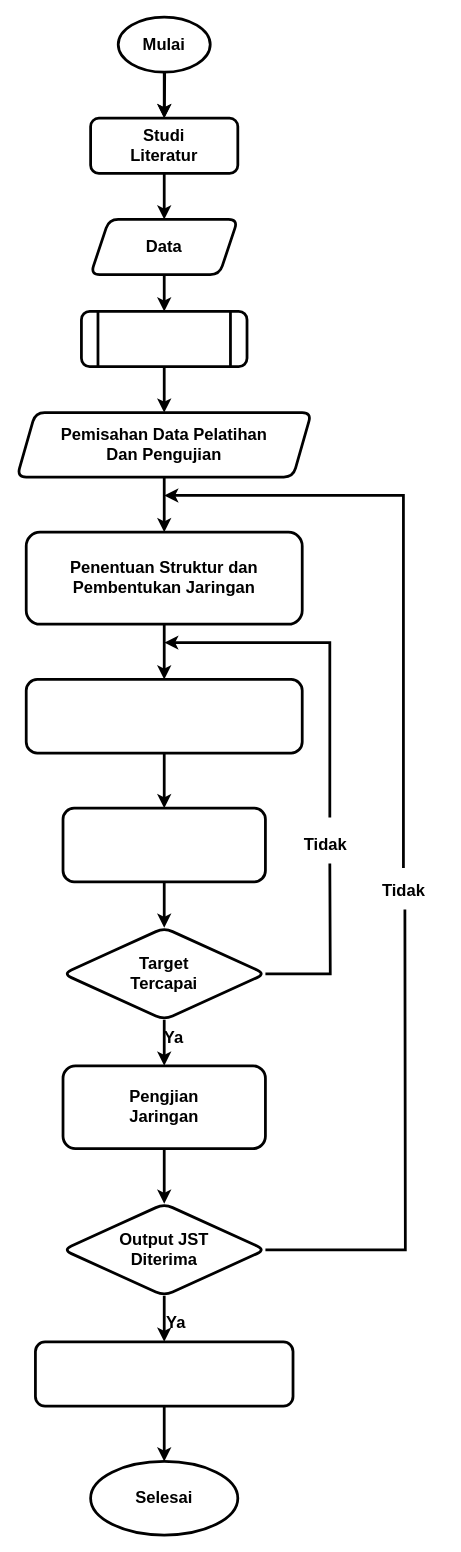
This 461x1552 diagram has some shape labels left out. The box of each missing label's shape, as (x1, y1, x2, y2) in pixels:
Implementasi Model Prediksi: (34, 1340, 294, 1407)
Inisialisasi Dan Pengaturan Parameter Jaringan: (24, 678, 303, 754)
Pelatihan Jaringan: (61, 806, 266, 883)
Praproses Data: (80, 310, 248, 368)
